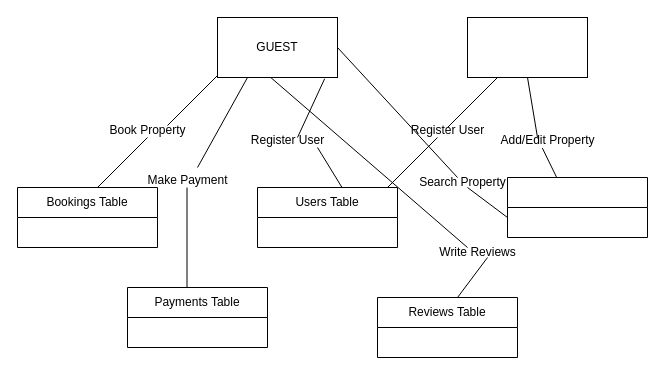
The diagram is 665 pixels wide and 375 high, and some of its shapes have lost their labels. Each missing label, with the centre of its shape:
"HOST" goes at (x=527, y=47).
"Properties Table" goes at (x=577, y=207).
